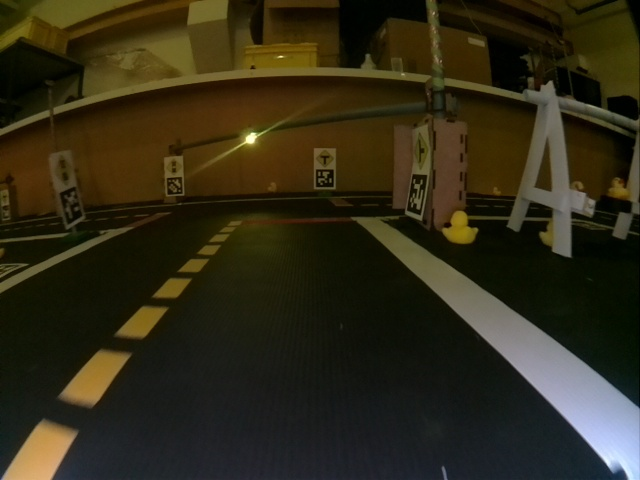Duckie: (445, 211, 476, 242), (607, 177, 628, 197), (540, 220, 554, 244), (491, 187, 501, 196), (268, 183, 277, 192)
Intersection sign: (412, 132, 430, 171), (315, 149, 335, 168)
QR code: (405, 174, 429, 216), (58, 188, 82, 225), (0, 263, 29, 280), (315, 169, 335, 189), (167, 177, 183, 195)
Signal sign: (51, 153, 75, 185), (165, 157, 183, 174)
Traffic light: (246, 129, 256, 145)
